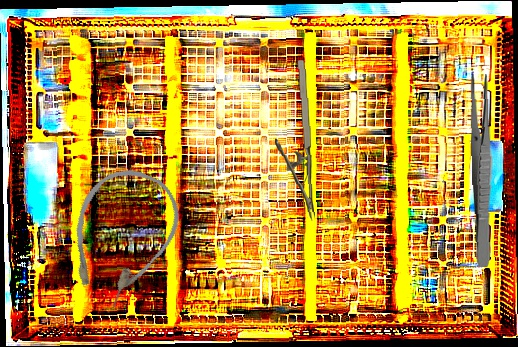Cannula: (48, 155, 193, 319)
Dressing Forceps: (468, 73, 497, 268)
Needle Holder: (272, 59, 315, 223)
